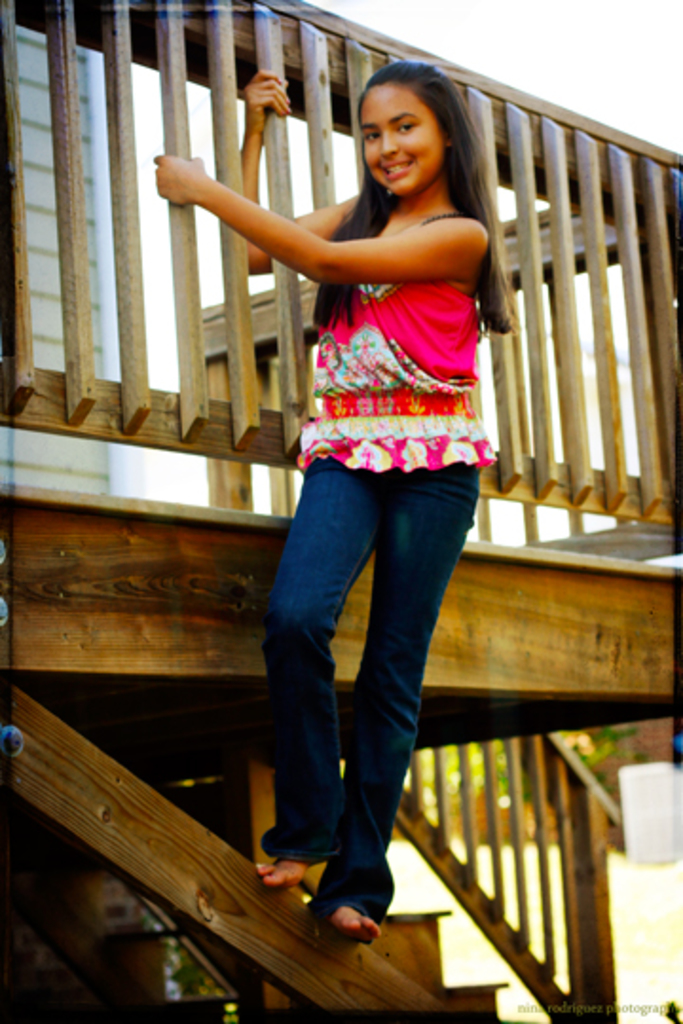Human_hand: (239, 63, 294, 133), (148, 154, 209, 209)
